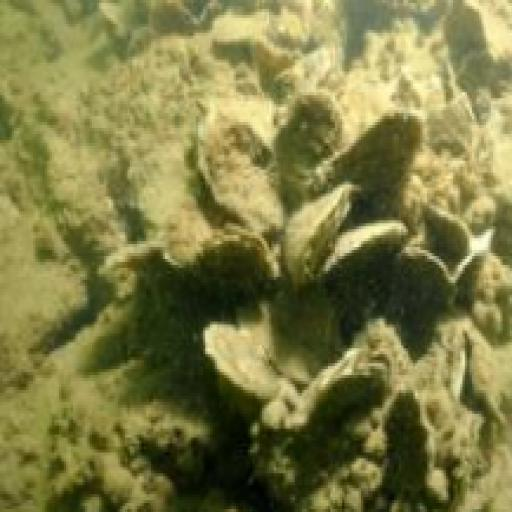Oyster-Closed: (317, 116, 420, 221), (171, 228, 281, 307), (296, 345, 392, 431), (318, 224, 409, 300), (288, 188, 354, 287)
Oyster-Open: (391, 216, 484, 317)
